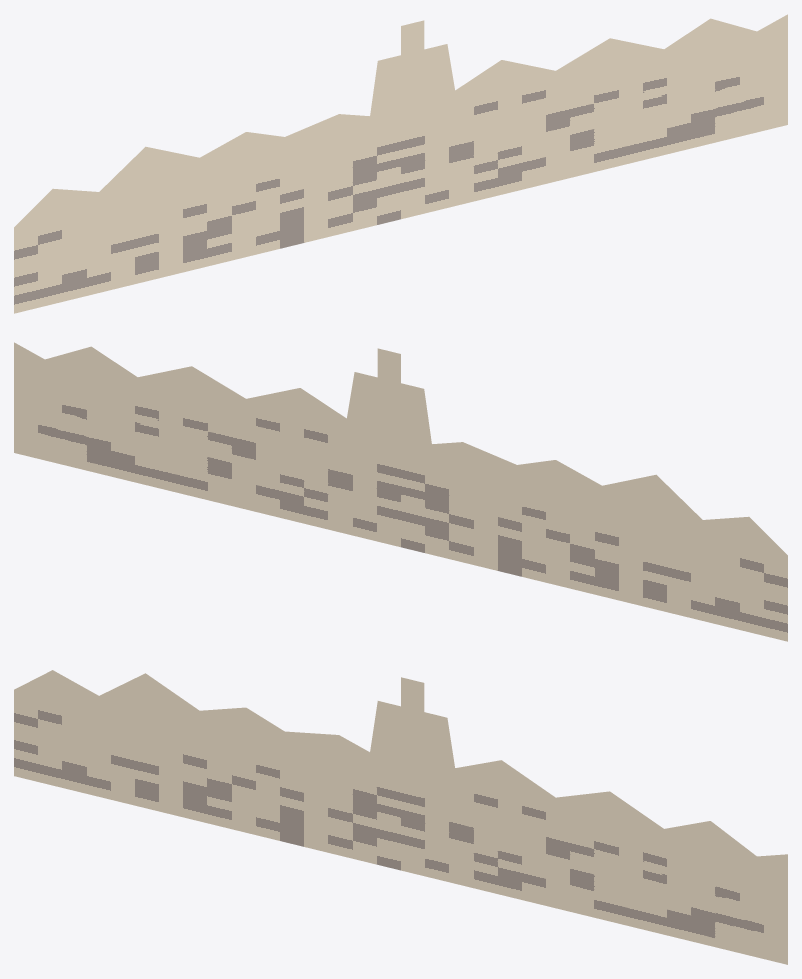
File: land.skyline__canopy.glb
3 renders of one model, top to bottom at view 1: azimuth 30°, elevation 25°; view 2: azimuth 150°, elevation 25°; view 3: azimuth 330°, elevation 25°, orthographic.
Parts seen in each view (by area): view 1: kit_shell_skyline; view 2: kit_shell_skyline; view 3: kit_shell_skyline.
Boxes of the visible parts, x1,y1,x2,y2 form: kit_shell_skyline: [14, 14, 787, 313]; kit_shell_skyline: [14, 342, 787, 641]; kit_shell_skyline: [14, 670, 787, 964].
Bounding box in the file's own units: 60 × 14.32 × 0.
Materials: 1 (1 with a texture image).
